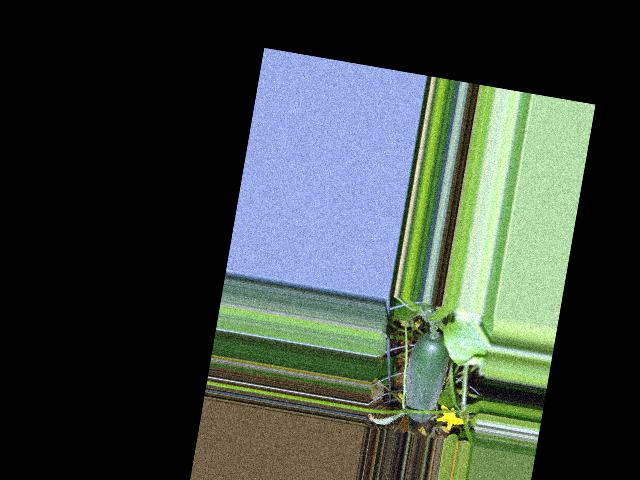cucumber: (397, 328, 452, 424)
